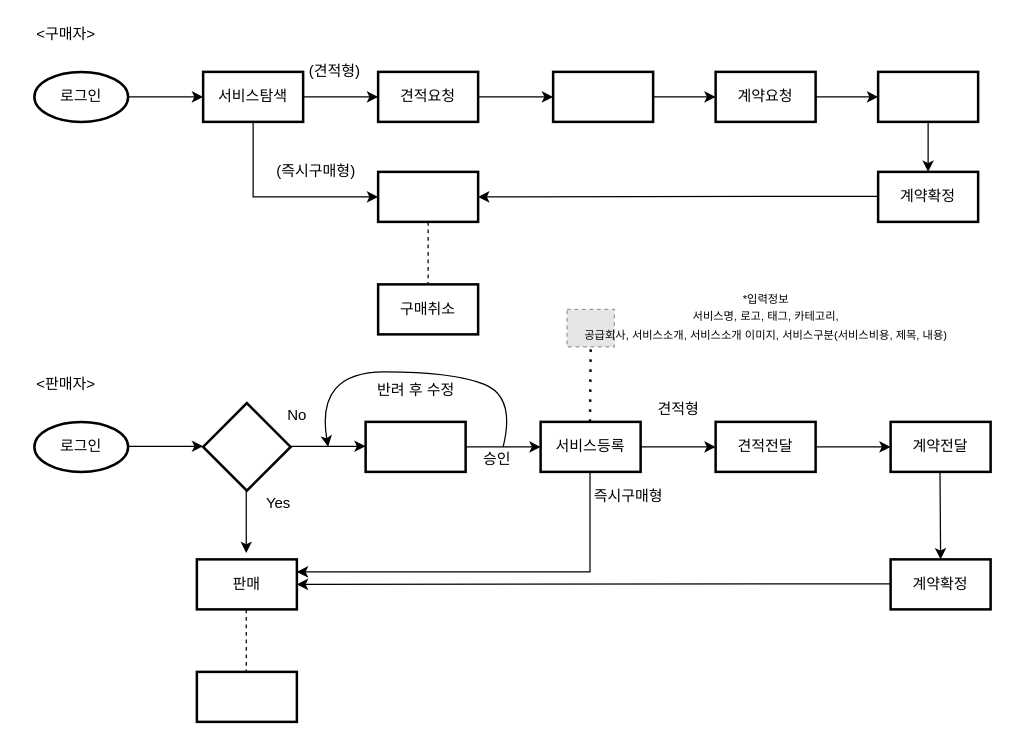
Some shapes in this 1013 by 744 pixel diagram are drawn without their labels. Grey dashed boxes stand in for pictures. The box of each missing label's shape, as (x1, y1, x2, y2) in pixels:
견적확인: (551, 70, 654, 122)
계약확인: (876, 70, 979, 122)
구매: (376, 170, 479, 222)
서비스 등록 여부: (201, 401, 291, 491)
서비스 등록심사: (364, 420, 466, 472)
판매취소: (195, 670, 298, 722)
